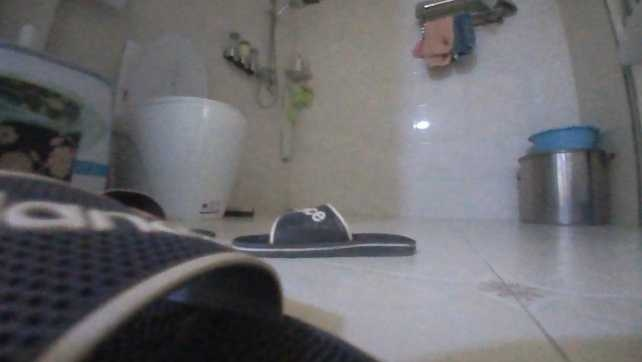slipper: (233, 200, 415, 259)
toilet: (113, 30, 253, 224)
